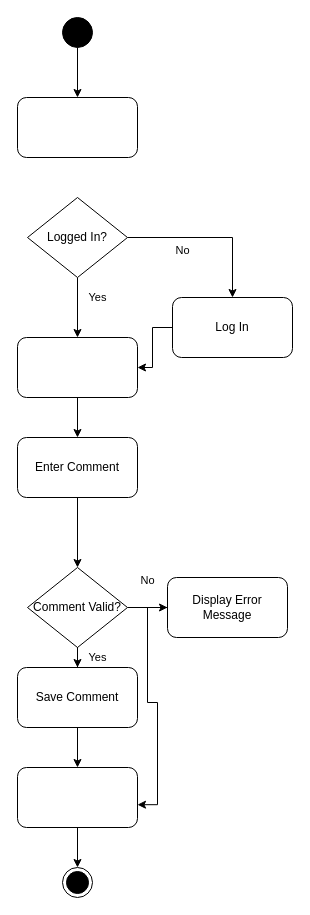
This 310x915 diagram has some shape labels left out. Here are the shapes that lost their labels. From the top down, the centre of each, then its label:
At point 77,127: "Select Grocery Item".
At point 77,367: "Open Comment Section".
At point 77,797: "Display Comment".
